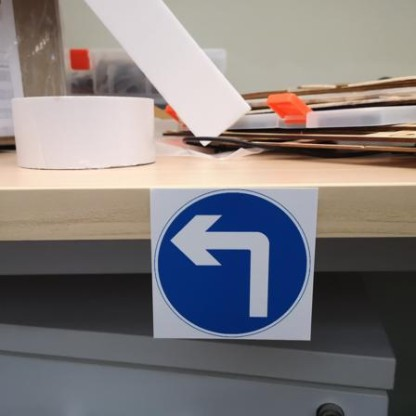left: (144, 179, 312, 338)
